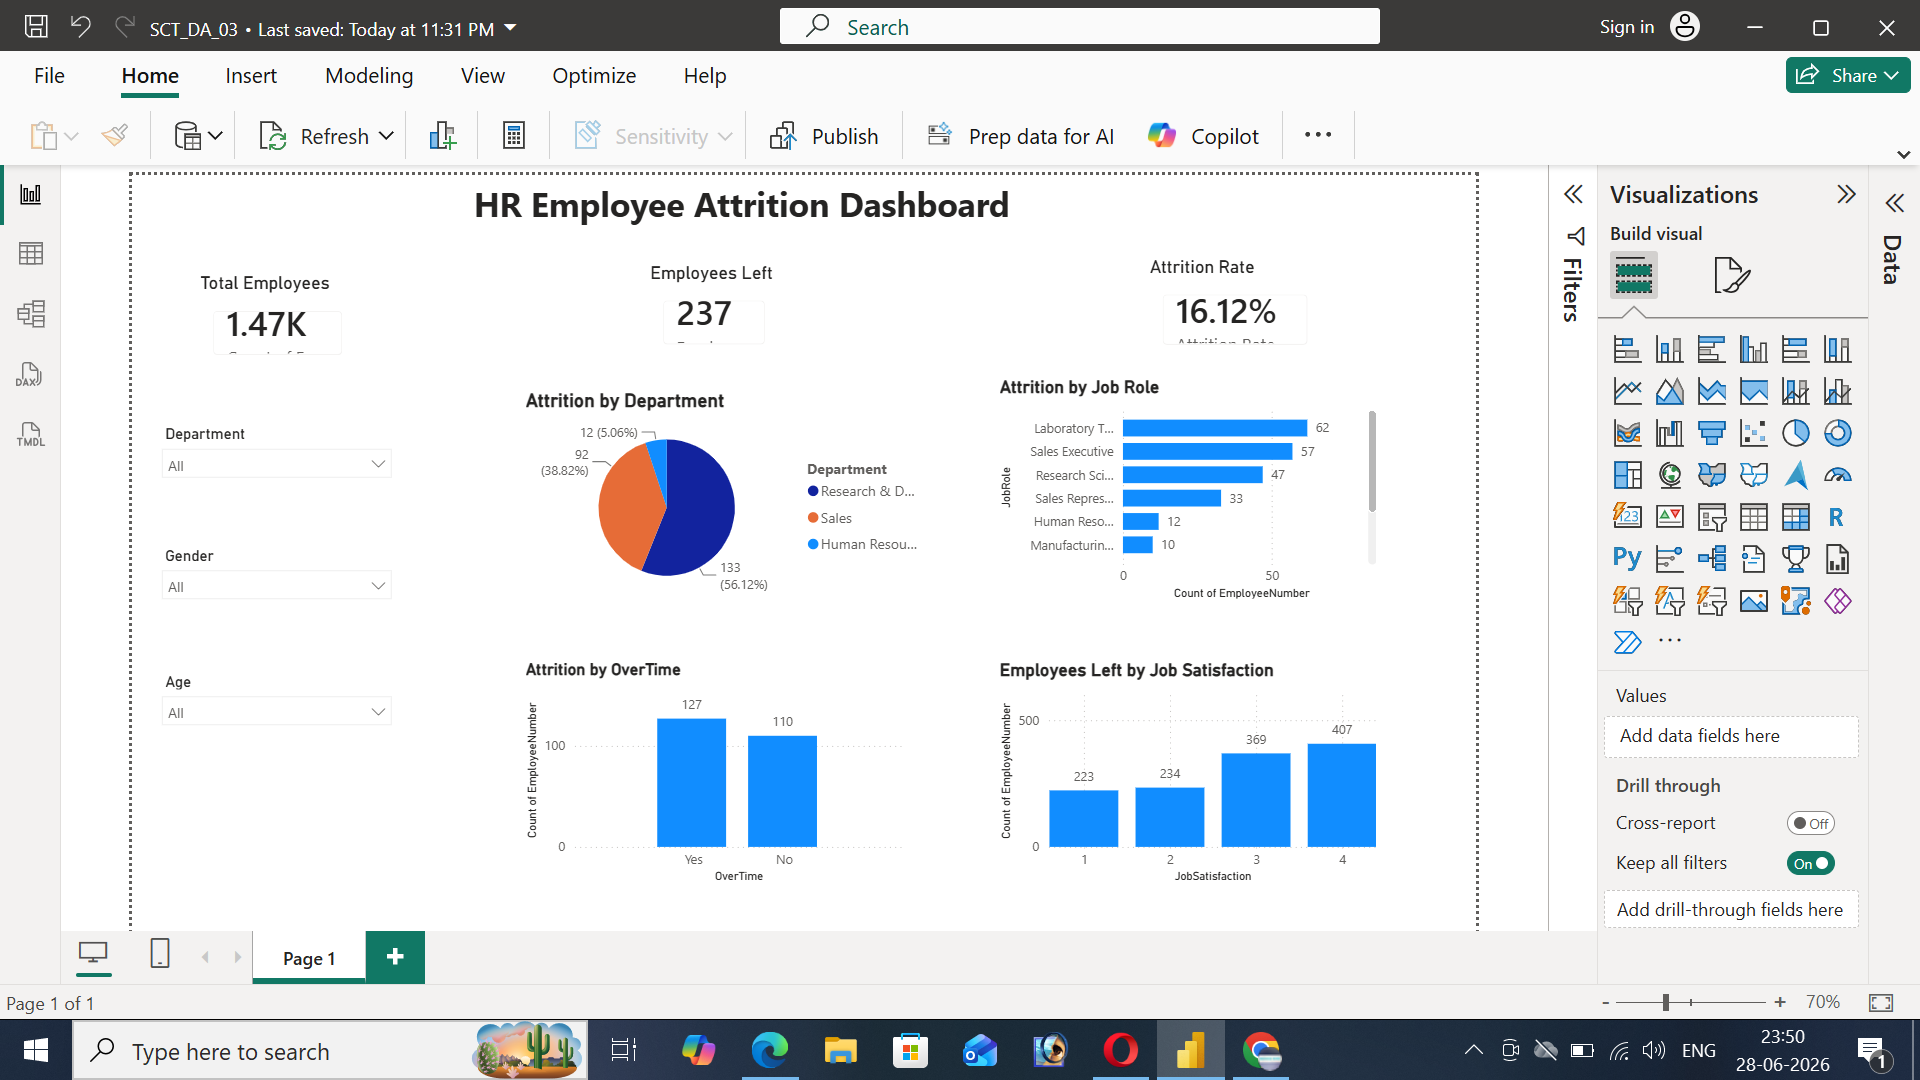

What the dashboard file says about the page in this screenshot:
{"tool":"powerbi","page":{"name":"Page 1","canvas":[1280,720],"ordinal":0},"visuals":[{"type":"textbox","box":[9.4,0,1141.4,107.7],"z":0},{"type":"cardVisual","title":"Total Employees","fields":{"Data":["CountNonNull(WA_Fn-UseC_-HR-Employee-Attrition.EmployeeNumber)"]},"box":[60,92.9,157.1,95.7],"z":1000},{"type":"cardVisual","title":"Employees Left","fields":{"Data":["WA_Fn-UseC_-HR-Employee-Attrition.Employees Left"]},"box":[488.6,82.9,131.4,95.7],"z":2000},{"type":"cardVisual","title":"Attrition Rate","fields":{"Data":["WA_Fn-UseC_-HR-Employee-Attrition.Attrition Rate"]},"box":[964.3,77.1,172.9,101.4],"z":3001},{"type":"pieChart","title":"Attrition by Department","fields":{"Category":["WA_Fn-UseC_-HR-Employee-Attrition.Department"],"Y":["CountNonNull(WA_Fn-UseC_-HR-Employee-Attrition.EmployeeNumber)"]},"box":[370,204.3,392.9,204.3],"z":3002},{"type":"clusteredBarChart","title":"Attrition by  Job Role","fields":{"Category":["WA_Fn-UseC_-HR-Employee-Attrition.JobRole"],"Y":["CountNonNull(WA_Fn-UseC_-HR-Employee-Attrition.EmployeeNumber)"]},"box":[821.4,191.4,368.6,217.1],"z":3003},{"type":"clusteredColumnChart","title":"Attrition by OverTime","fields":{"Category":["WA_Fn-UseC_-HR-Employee-Attrition.OverTime"],"Y":["CountNonNull(WA_Fn-UseC_-HR-Employee-Attrition.EmployeeNumber)"]},"box":[370,461.4,368.6,217.1],"z":3004},{"type":"clusteredColumnChart","title":"Employees Left by Job Satisfaction","fields":{"Category":["WA_Fn-UseC_-HR-Employee-Attrition.JobSatisfaction"],"Y":["CountNonNull(WA_Fn-UseC_-HR-Employee-Attrition.EmployeeNumber)"]},"box":[821.4,461.4,368.6,217.1],"z":3005},{"type":"slicer","fields":{"Values":["WA_Fn-UseC_-HR-Employee-Attrition.Department"]},"box":[19.1,232.2,238.6,101.8],"z":3006},{"type":"slicer","fields":{"Values":["WA_Fn-UseC_-HR-Employee-Attrition.Gender"]},"box":[19.1,348.3,238.6,101.8],"z":3007},{"type":"slicer","fields":{"Values":["WA_Fn-UseC_-HR-Employee-Attrition.Age"]},"box":[19.1,469.2,238.6,101.8],"z":3008}]}

Visuals, with their boxes on the page's 1280x720 design canvas (x1, y1, x2, y2). These are canvas units, not pixel positions in the 1920x1080 screenshot, which may show the page scaled, cropped or inside an application window:
textbox: (9,0,1151,108)
"Total Employees" cardVisual: (60,93,217,189)
"Employees Left" cardVisual: (489,83,620,179)
"Attrition Rate" cardVisual: (964,77,1137,178)
"Attrition by Department" pieChart: (370,204,763,409)
"Attrition by  Job Role" clusteredBarChart: (821,191,1190,408)
"Attrition by OverTime" clusteredColumnChart: (370,461,739,678)
"Employees Left by Job Satisfaction" clusteredColumnChart: (821,461,1190,678)
slicer - WA_Fn-UseC_-HR-Employee-Attrition.Department: (19,232,258,334)
slicer - WA_Fn-UseC_-HR-Employee-Attrition.Gender: (19,348,258,450)
slicer - WA_Fn-UseC_-HR-Employee-Attrition.Age: (19,469,258,571)
